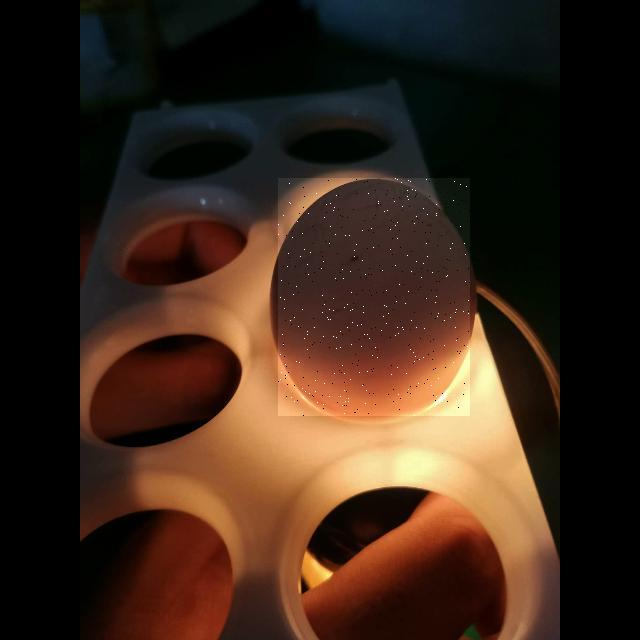Fertile: (278, 178, 470, 416)
